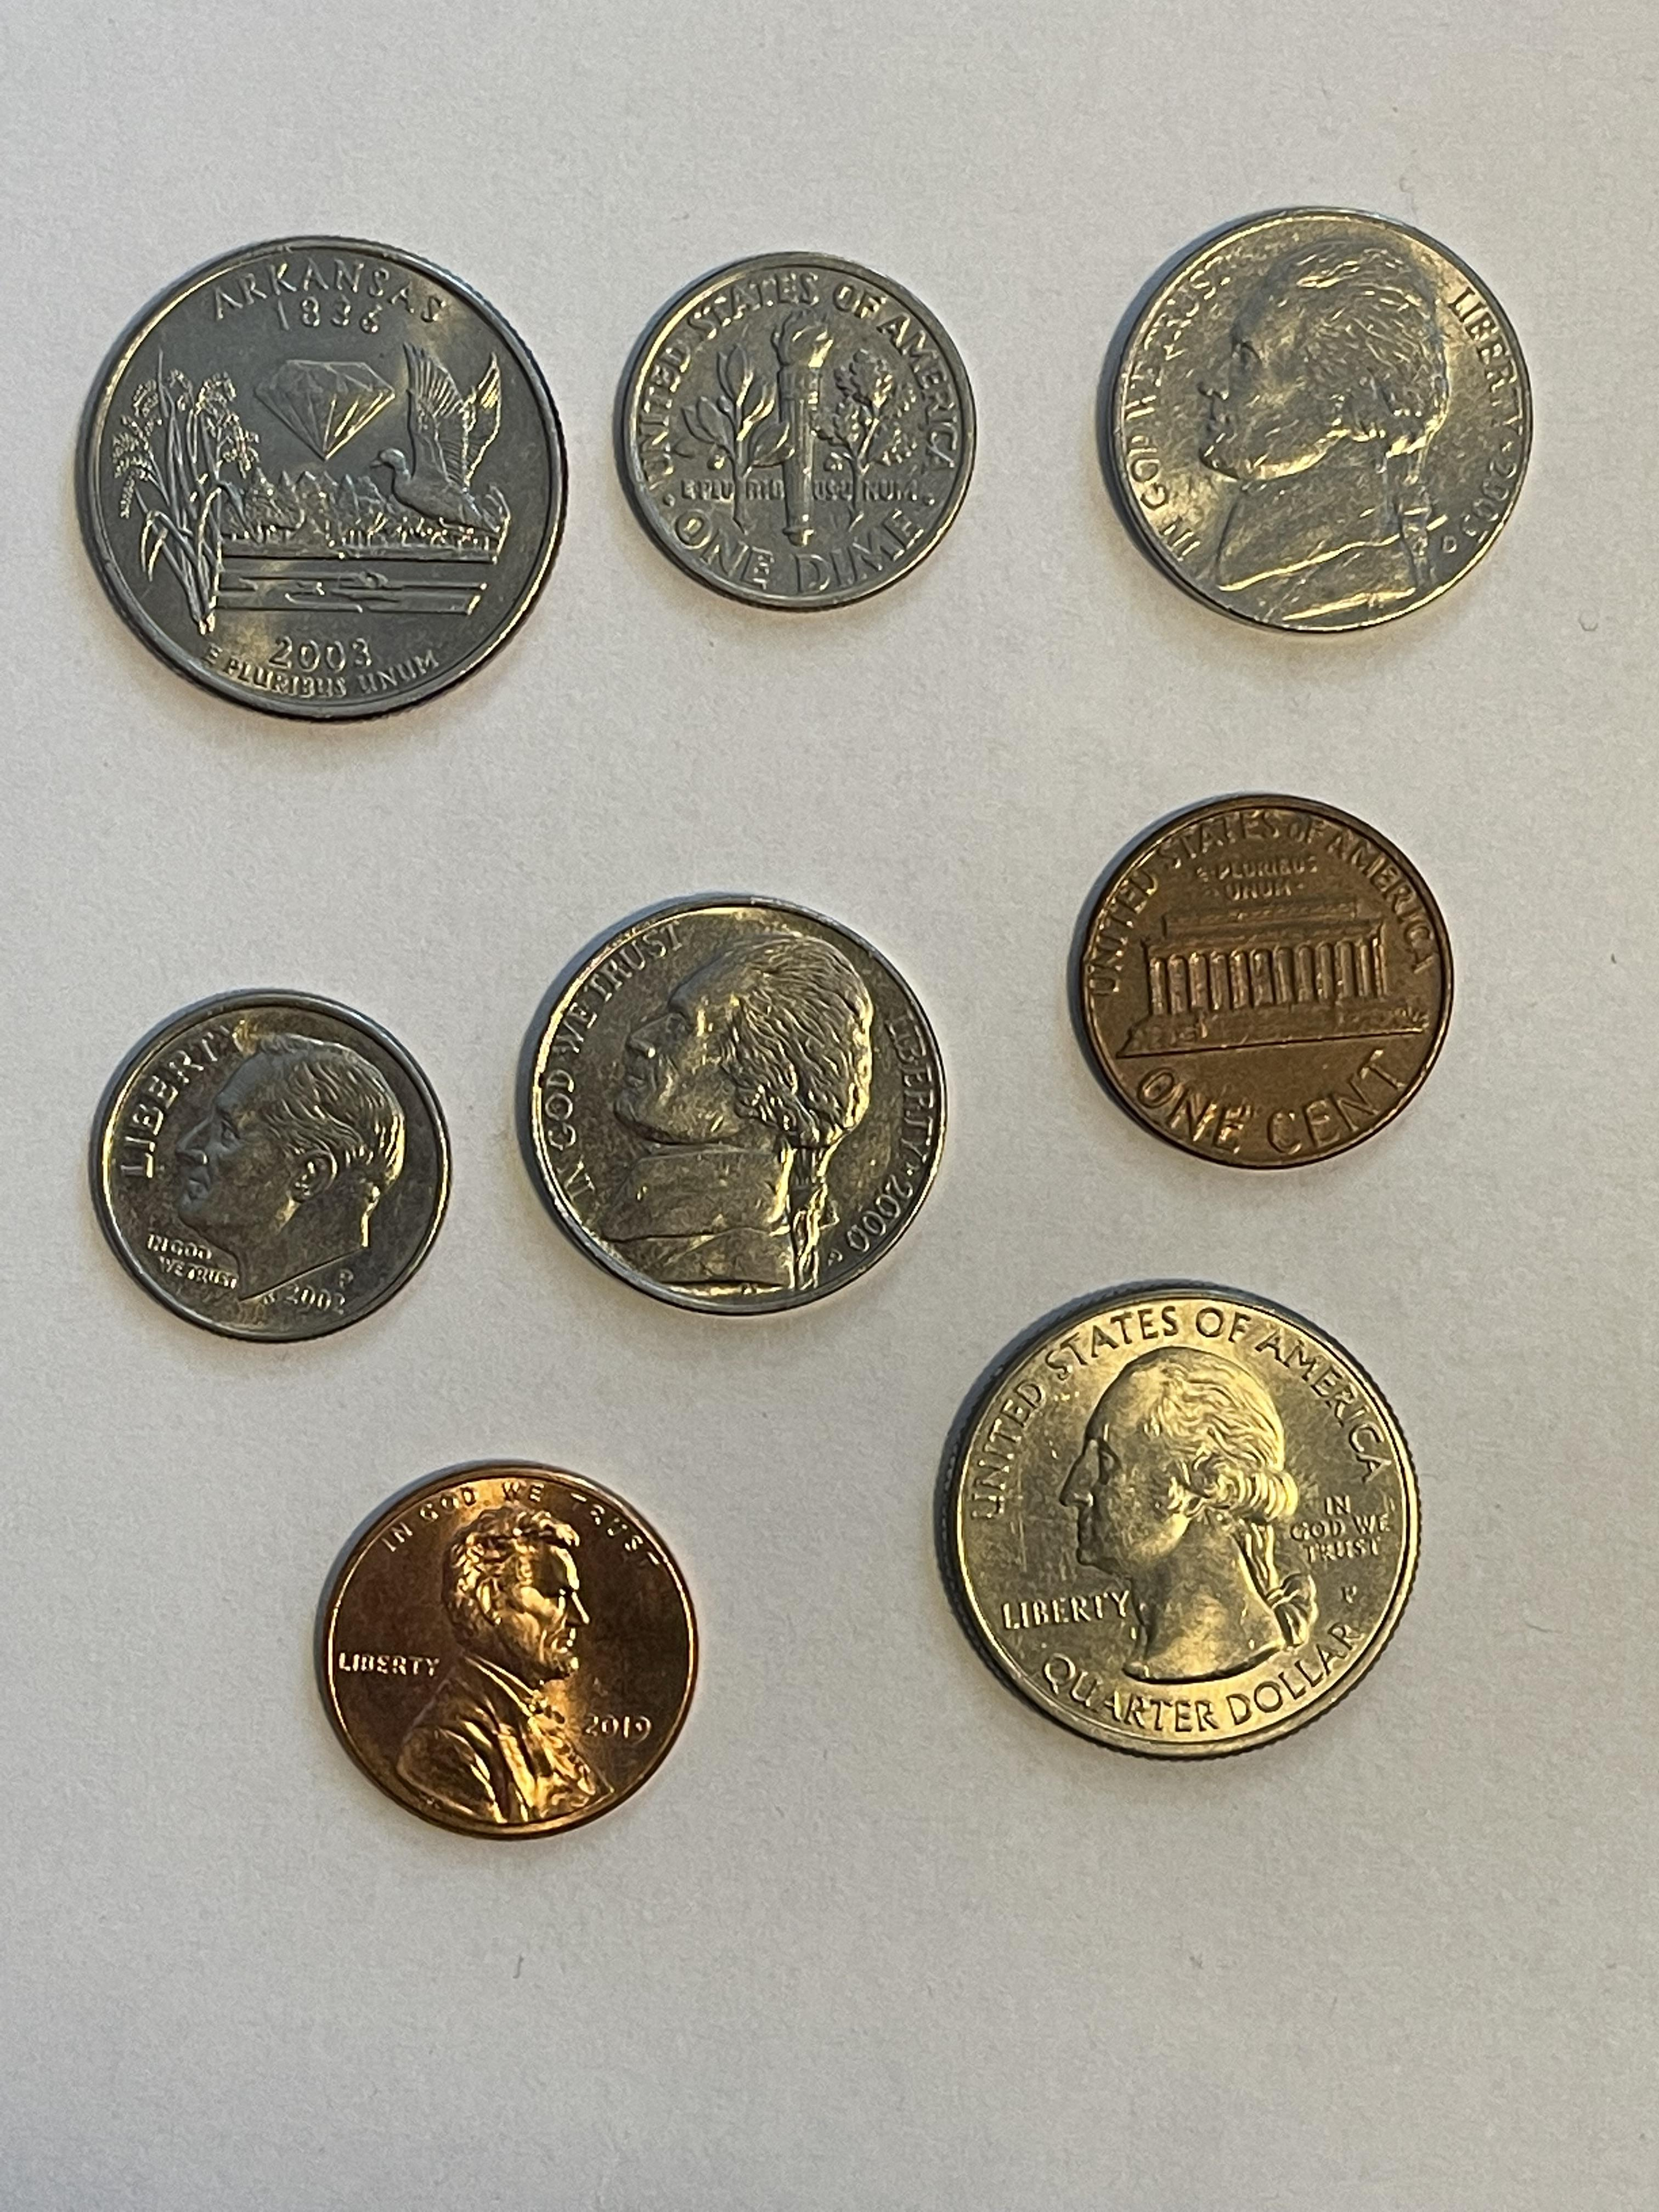Dime: (617, 251, 978, 615), (94, 986, 453, 1348)
Nickel: (1101, 204, 1535, 639), (523, 890, 950, 1320)
Penny: (319, 1458, 699, 1844), (1079, 792, 1453, 1172)
Quarter: (77, 230, 570, 726), (939, 1280, 1425, 1766)
